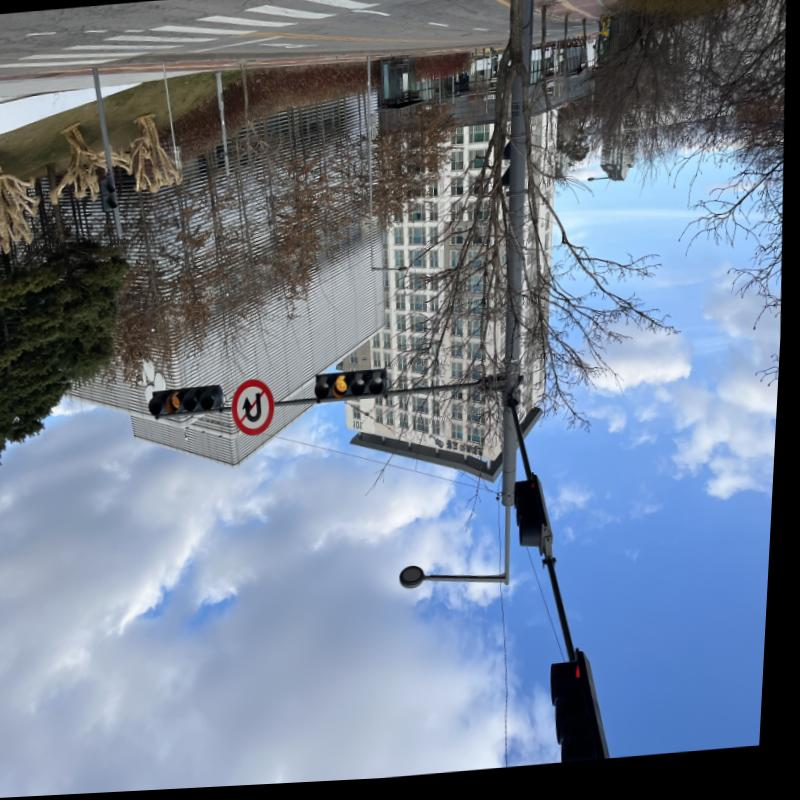yellow: (337, 377, 355, 400), (171, 391, 188, 413)
